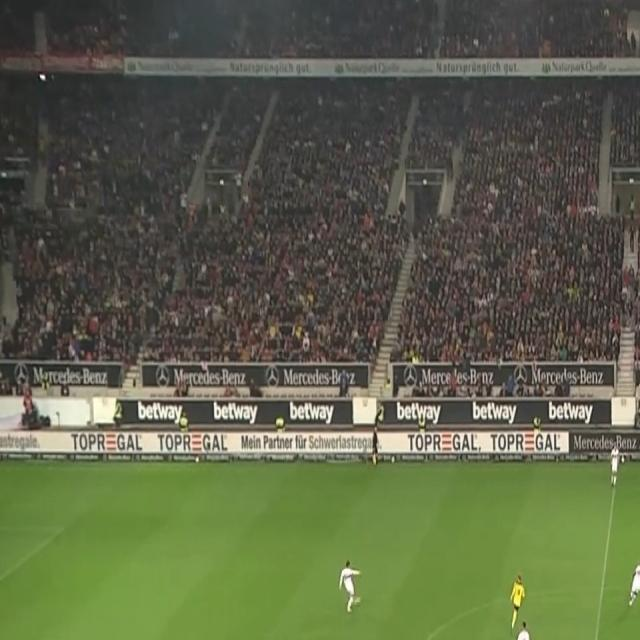ball: (354, 594, 362, 608)
